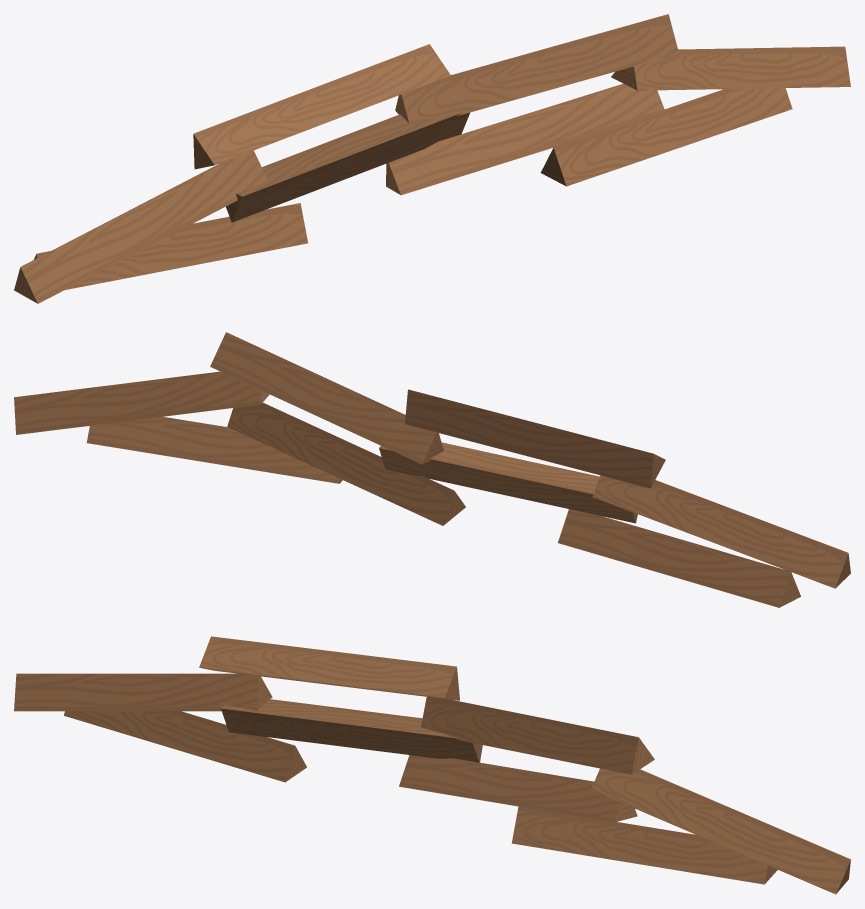
File: FenceC.glb
3 views of the same model, one above another, from view 1: azimuth 30°, elevation 25°; view 2: azimuth 150°, elevation 25°; view 3: azimuth 330°, elevation 25° (orthographic). The views are drawn at different scales.
Parts seen in each view (by area): view 1: Cylinder.006, Cylinder.002, Cylinder.007, Cylinder.008, Cylinder.001, Cylinder.003, Cylinder.005, Cylinder.004; view 2: Cylinder.007, Cylinder.004, Cylinder.006, Cylinder.008, Cylinder.005, Cylinder.002, Cylinder.003, Cylinder.001; view 3: Cylinder.005, Cylinder.007, Cylinder.001, Cylinder.008, Cylinder.006, Cylinder.003, Cylinder.002, Cylinder.004.
Part boxes in pixels (x1,y1,x2,y2): Cylinder.006: (395, 14, 678, 123); Cylinder.002: (386, 83, 665, 195); Cylinder.007: (14, 150, 268, 303); Cylinder.008: (193, 44, 450, 169); Cylinder.001: (540, 88, 792, 186); Cylinder.003: (226, 112, 469, 222); Cylinder.005: (611, 46, 850, 90); Cylinder.004: (34, 203, 307, 289); Cylinder.007: (592, 475, 850, 588); Cylinder.004: (558, 509, 800, 607); Cylinder.006: (210, 332, 443, 464); Cylinder.008: (405, 389, 665, 488); Cylinder.005: (14, 371, 269, 434); Cylinder.002: (227, 403, 465, 525); Cylinder.003: (379, 442, 637, 523); Cylinder.001: (86, 416, 342, 483); Cylinder.005: (591, 768, 850, 894); Cylinder.007: (14, 673, 272, 711); Cylinder.001: (511, 806, 777, 884); Cylinder.008: (199, 636, 459, 700); Cylinder.006: (421, 696, 654, 774); Cylinder.003: (221, 699, 482, 762); Cylinder.002: (399, 755, 637, 822); Cylinder.004: (64, 711, 306, 782).
Size of the model in its own units: 14.67 by 2.26 by 1.64.
Materials: 1 (1 with a texture image).
